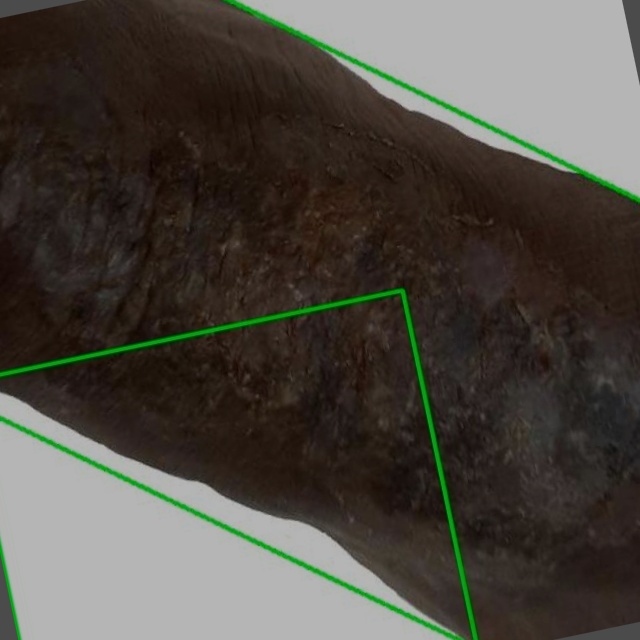Contact Dermatitis: (0, 15, 639, 618), (0, 290, 475, 639)
